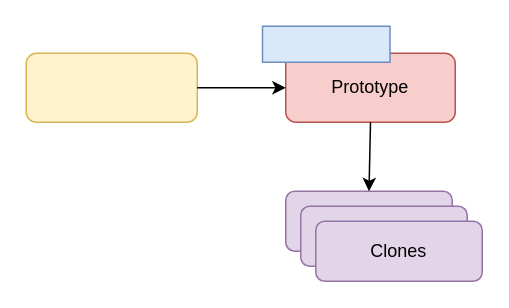
This 509x308 diagram has some shape labels left out. Here are the shapes that lost their labels. From the top down, the centre of each, then its label:
(x=325, y=43): Clone();
(x=111, y=87): << CLIENT >>
